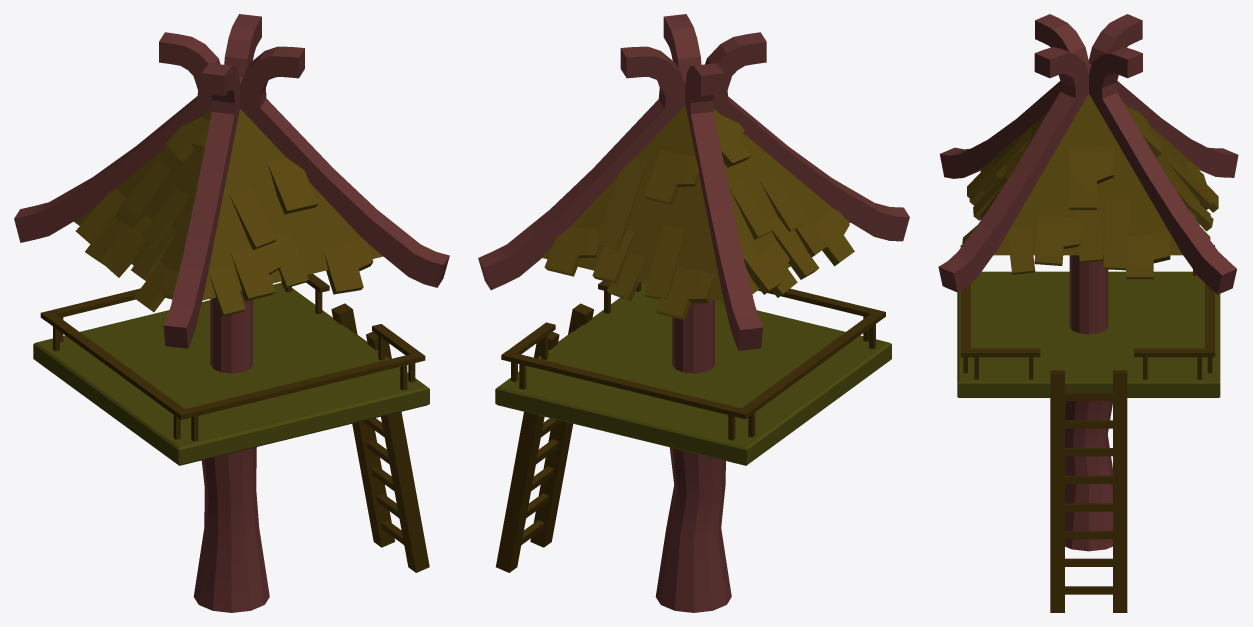
Rendered from pineConeTower02.fbx.
The picture shows the model from 3 angles, left to right: view 1: azimuth 30°, elevation 25°; view 2: azimuth 150°, elevation 25°; view 3: azimuth 270°, elevation 25°; orthographic projection. The views are drawn at different scales.
Parts seen in each view (by area): view 1: pCube1, group15_pCube39, group3_pCube4, pCylinder1, pCube11.001, group12_pCube28; view 2: pCube1, group15_pCube39, group3_pCube4, pCylinder1, pCube11.001, group12_pCube28; view 3: pCube1, group3_pCube4, group15_pCube39, pCube11.001, pCylinder1, group12_pCube28.
Part boxes in pixels (x1,y1,x2,y2): pCube1: (33, 282, 429, 465); group15_pCube39: (74, 108, 382, 316); group3_pCube4: (14, 14, 449, 348); pCylinder1: (193, 291, 269, 612); pCube11.001: (331, 303, 429, 572); group12_pCube28: (40, 274, 425, 441); pCube1: (495, 282, 891, 465); group15_pCube39: (541, 104, 854, 319); group3_pCube4: (478, 14, 909, 350); pCylinder1: (655, 299, 731, 612); pCube11.001: (496, 303, 593, 572); group12_pCube28: (501, 281, 885, 440); pCube1: (957, 271, 1220, 397); group3_pCube4: (938, 14, 1238, 294); group15_pCube39: (962, 67, 1218, 279); pCube11.001: (1050, 370, 1127, 612); pCylinder1: (1065, 255, 1112, 551); group12_pCube28: (960, 245, 1214, 379).
Bounding box in the file's own units: 9.71 × 16.01 × 8.7.
